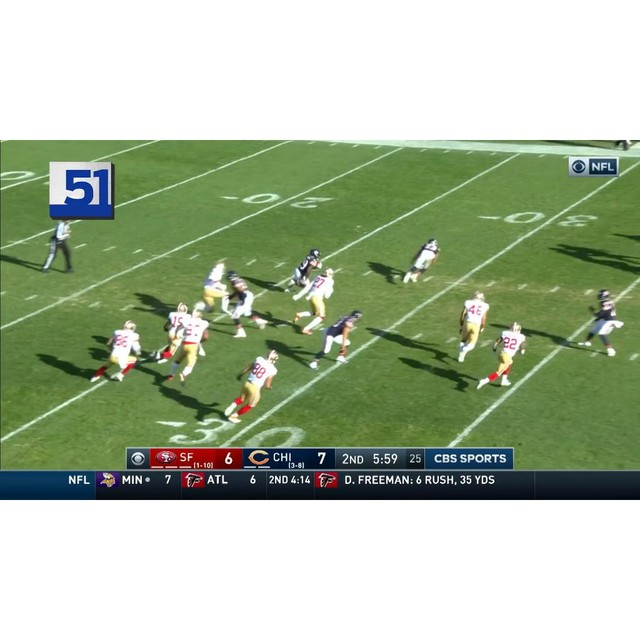american-football-player: (223, 352, 279, 422), (475, 322, 526, 392), (163, 310, 209, 387), (90, 320, 143, 383), (309, 310, 362, 369), (581, 289, 626, 356), (226, 270, 269, 338), (294, 267, 336, 332), (455, 290, 491, 362), (155, 302, 191, 362), (196, 259, 232, 316), (283, 249, 321, 300), (402, 238, 440, 285)
referee: (39, 218, 78, 274)
